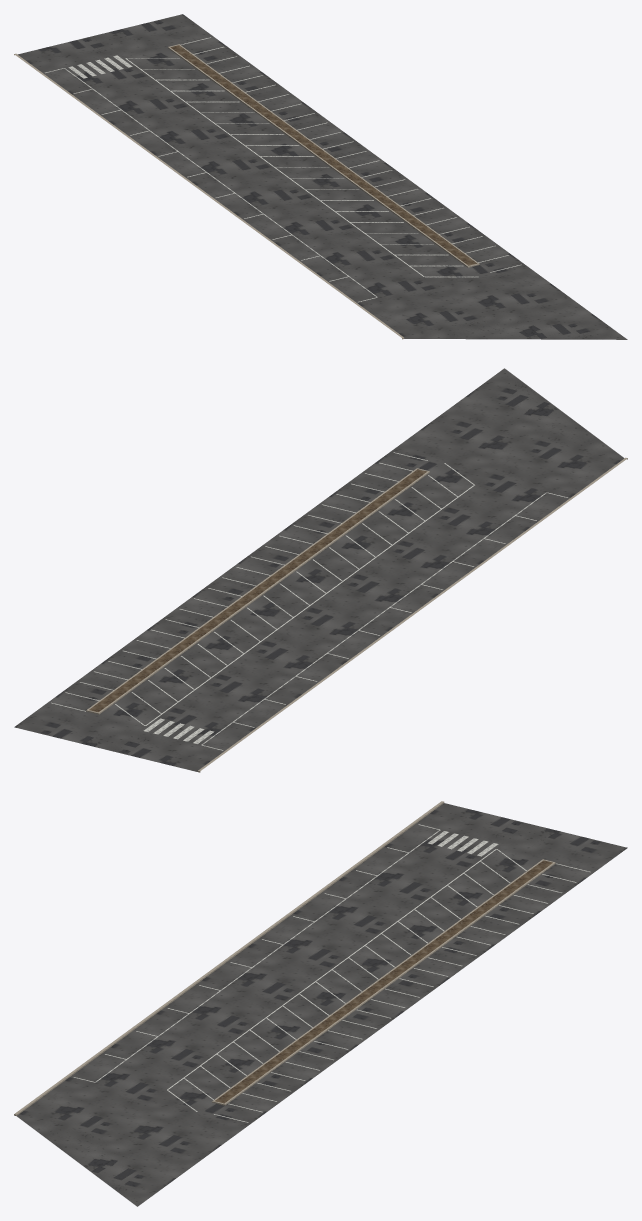
File: SM_Parcheggio_Asfalto_v2.fbx
The picture shows the model from 3 angles, top to bottom: view 1: azimuth 30°, elevation 25°; view 2: azimuth 150°, elevation 25°; view 3: azimuth 330°, elevation 25°; orthographic projection. The views are drawn at different scales.
Parts seen in each view (by area): view 1: SM_Parcheggio_Asfalto_v2; view 2: SM_Parcheggio_Asfalto_v2; view 3: SM_Parcheggio_Asfalto_v2.
Part boxes in pixels (box(x1,y1,x2,y2)): SM_Parcheggio_Asfalto_v2: box(14, 14, 627, 339); SM_Parcheggio_Asfalto_v2: box(14, 368, 627, 772); SM_Parcheggio_Asfalto_v2: box(14, 801, 627, 1206).
Size of what is drawn, in the model's own units: 1885 by 8600 by 13.
Materials: 4 (4 with a texture image).
